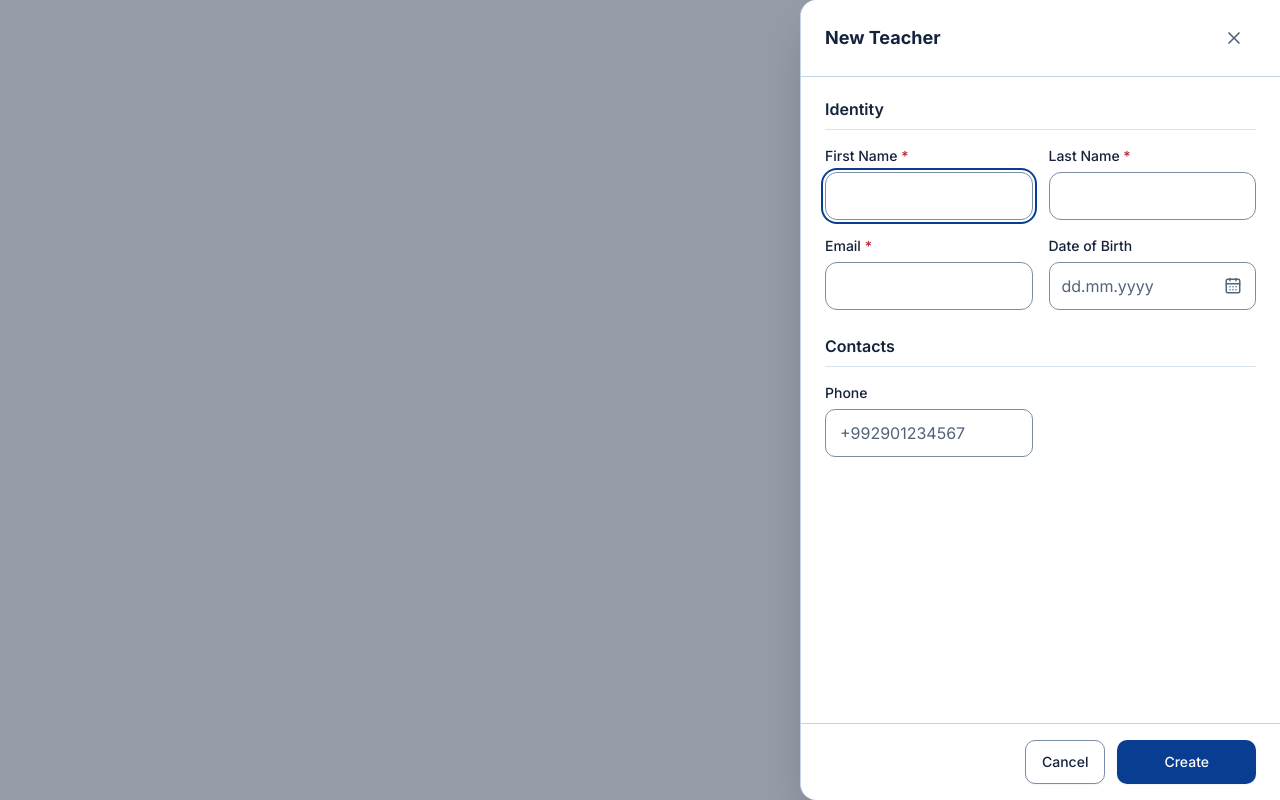
MentorFormPanel › maps duplicate email server error to the email field
Type "Test" into the field labelled "First Name *" at x=929, y=196, box [825,172,1032,220]
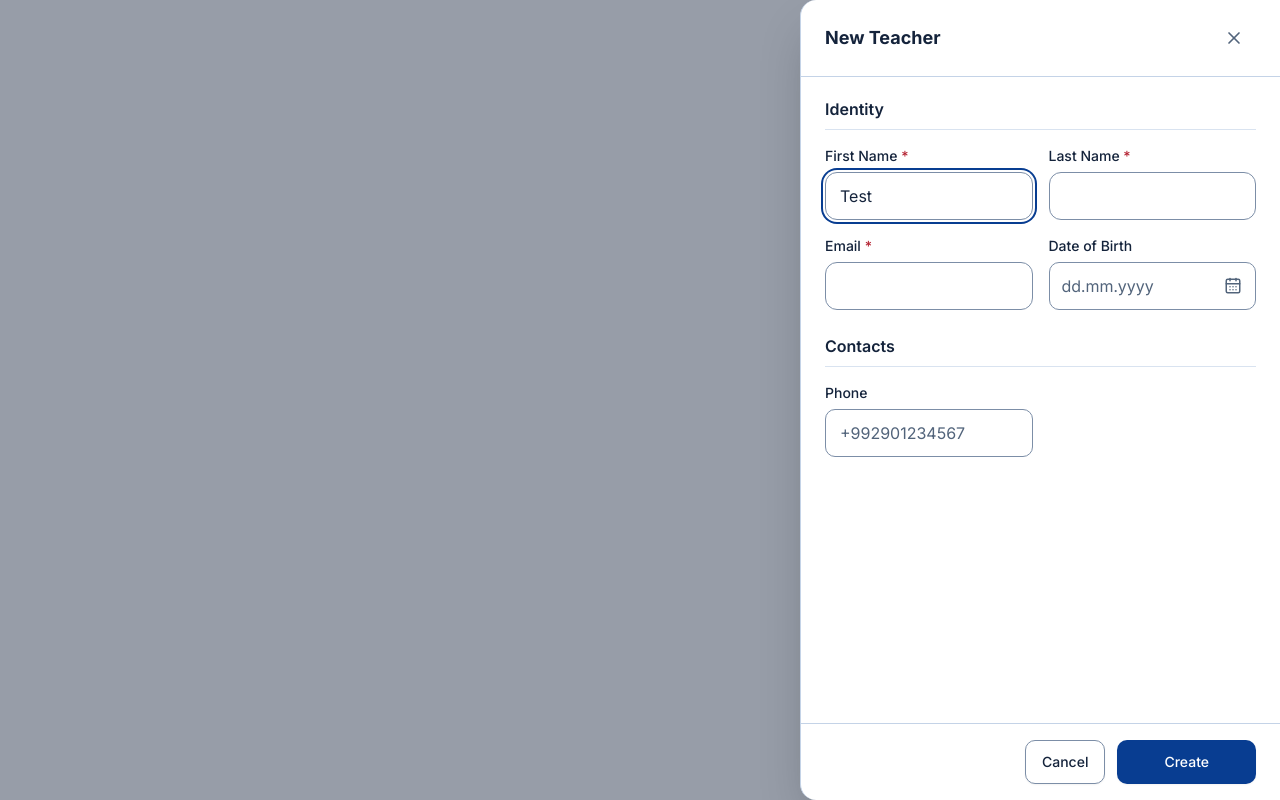
Type "Mentor" into the field labelled "Last Name *" at x=1152, y=196, box [1048,172,1256,220]
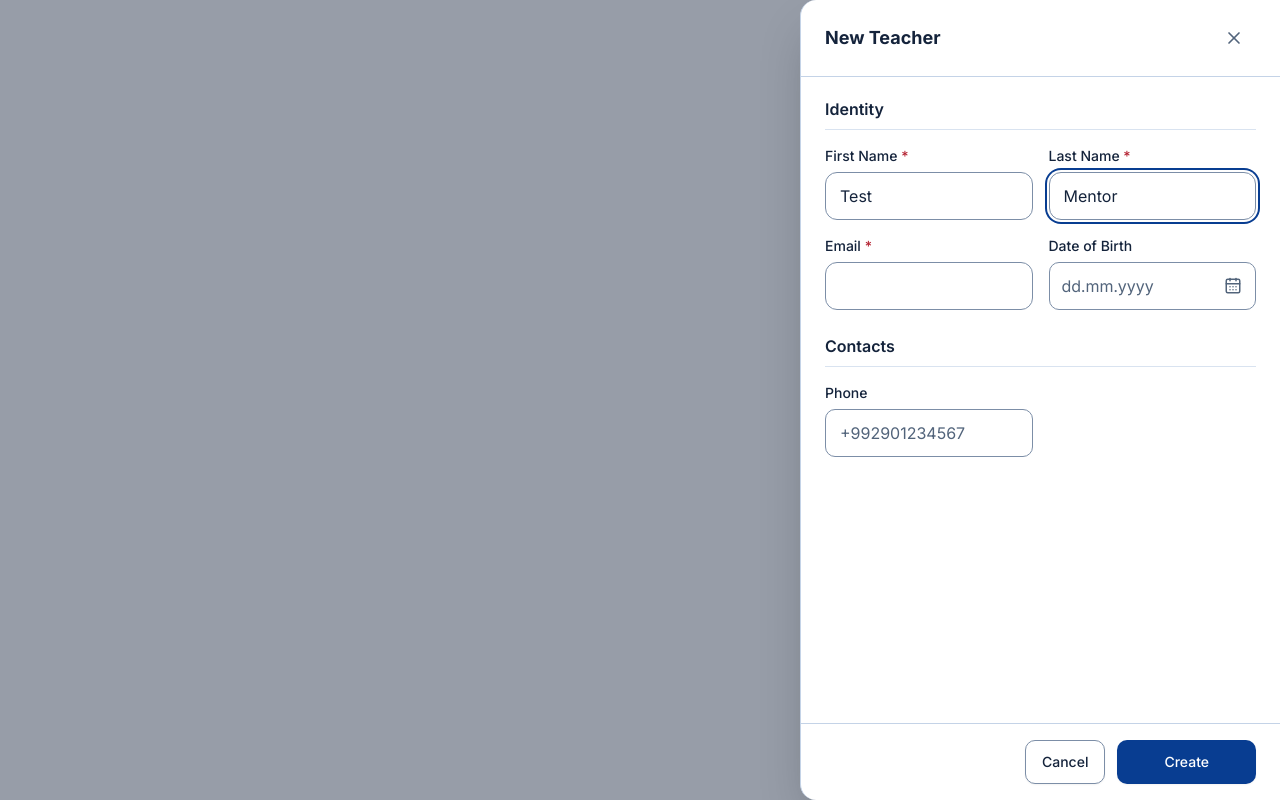
Type "dup@example.com" into the field labelled "Email *" at x=929, y=286, box [825,262,1032,310]
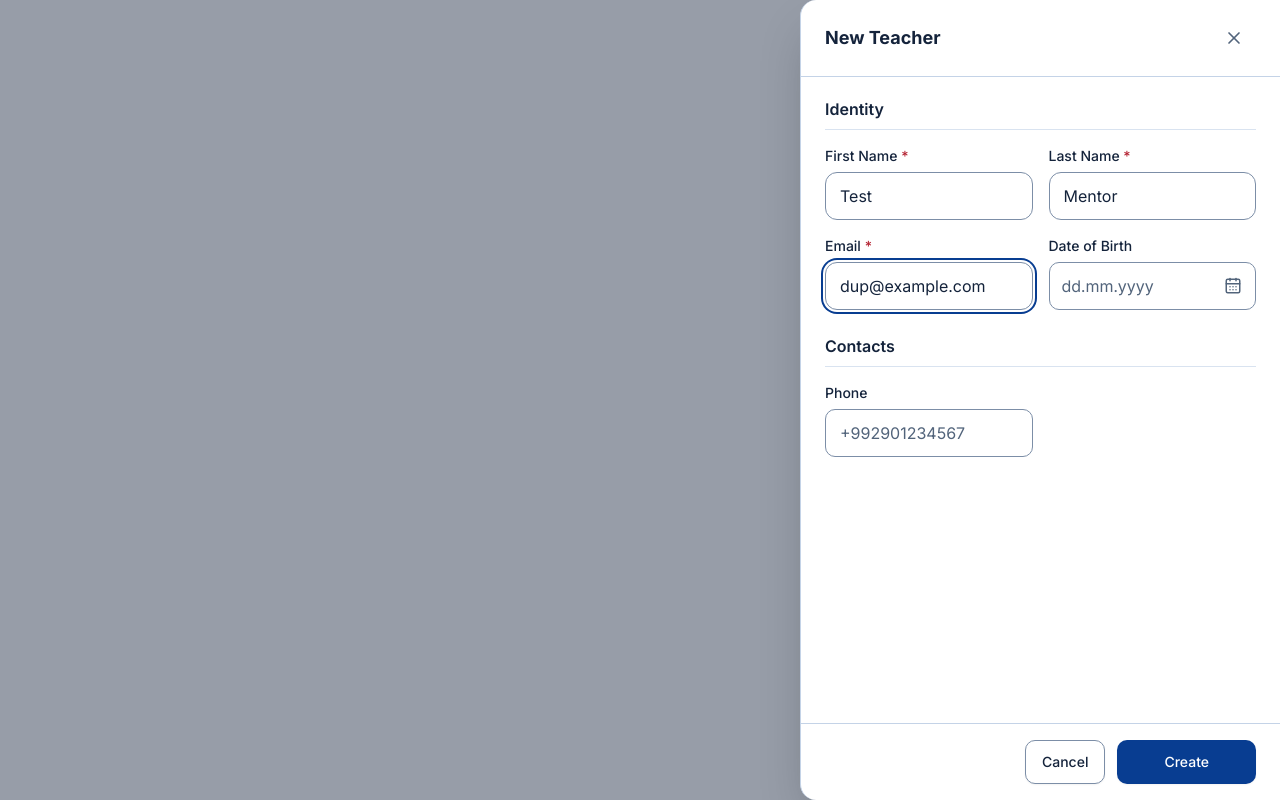
Click the button "Create" at x=1187, y=762, box [1117,740,1256,784]
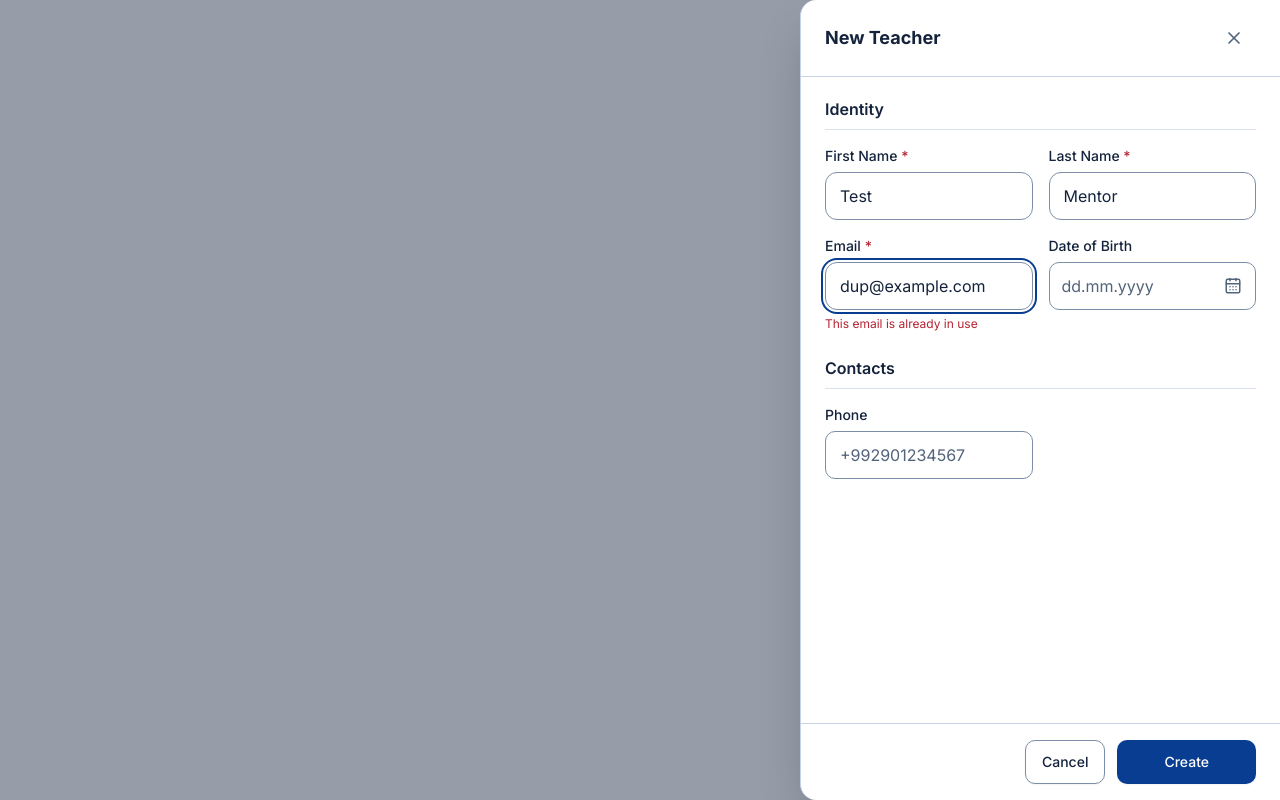
expect the text "This email is already in use" is shown: met, box [825,316,978,331]
